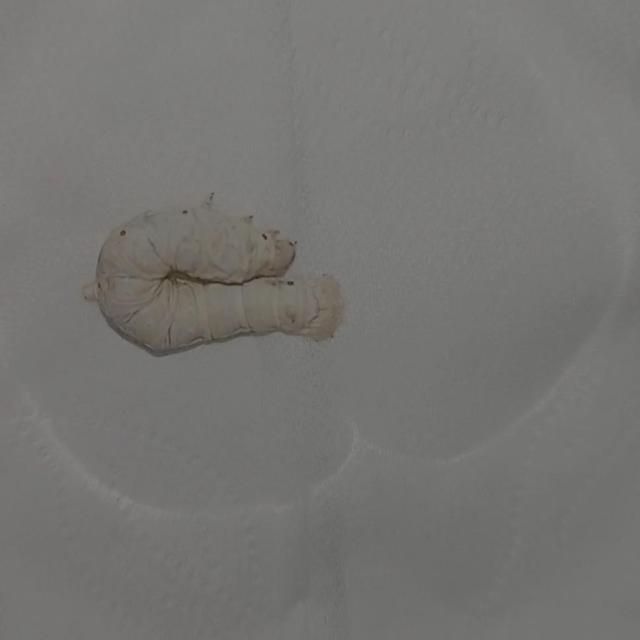Healthy: (62, 155, 368, 382)
